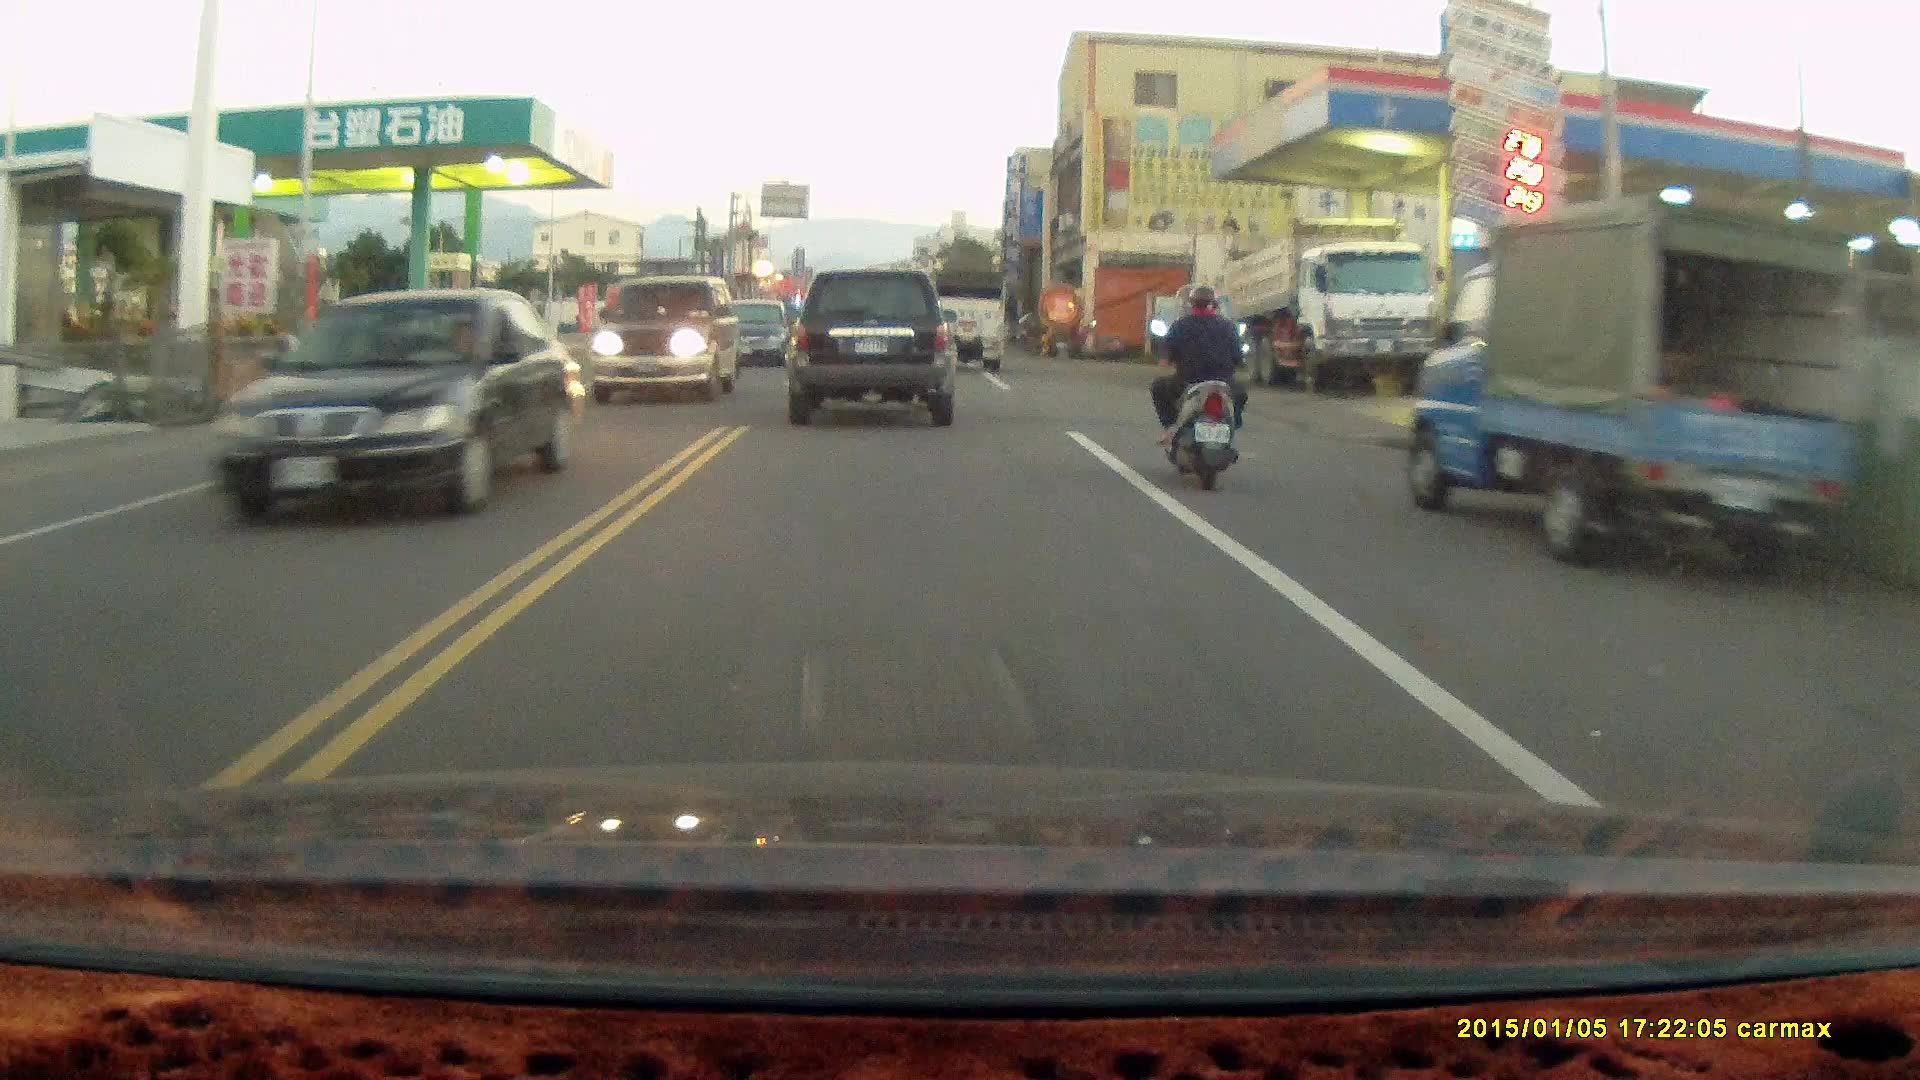rider: (1147, 282, 1251, 491)
vehicle: (1408, 192, 1879, 573), (197, 286, 574, 524), (1207, 201, 1434, 382), (789, 263, 956, 419), (596, 268, 744, 399), (916, 259, 1009, 370), (711, 300, 805, 370)
